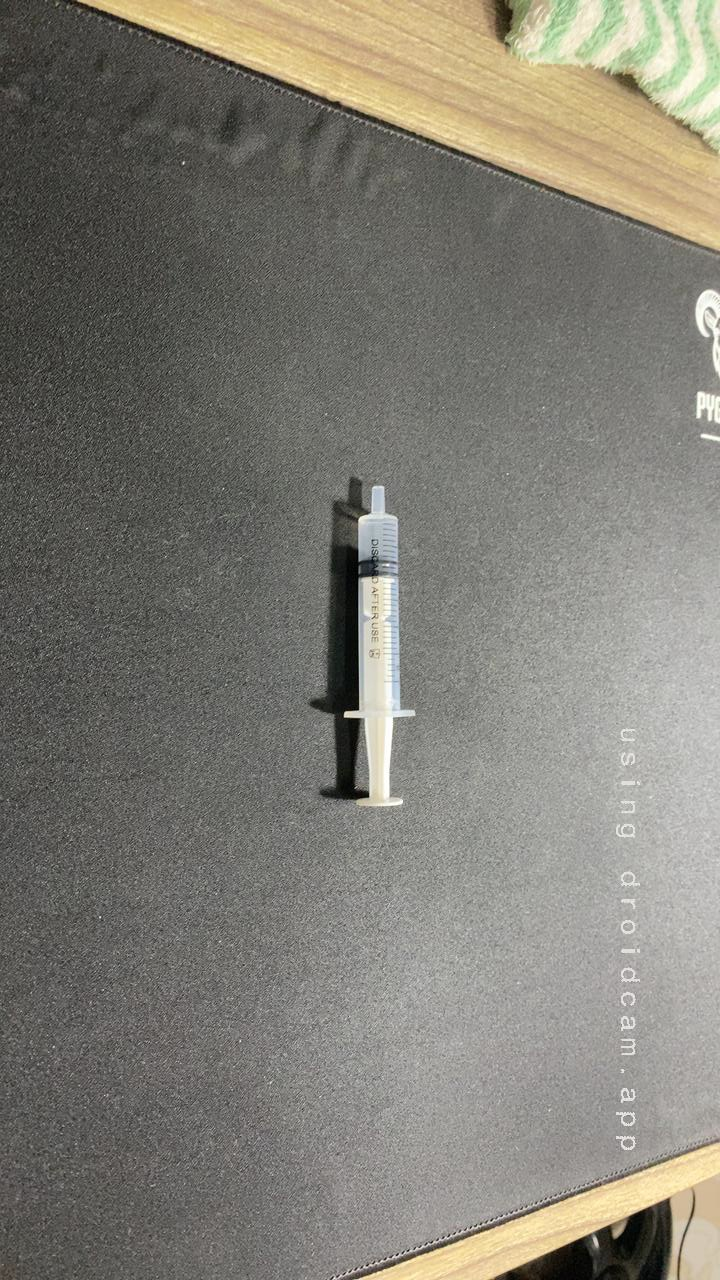syringe: (296, 460, 444, 818)
